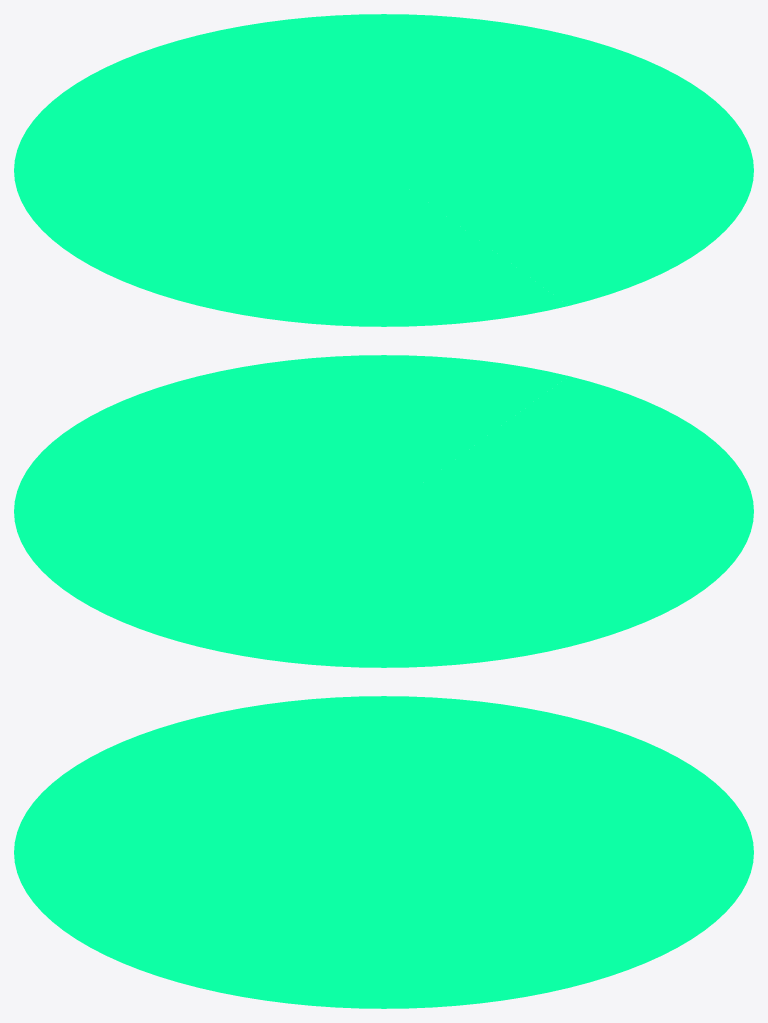
The model's file is hypersphere_projectable_ar_universal.glb.
The picture shows the model from 3 angles, top to bottom: view 1: azimuth 30°, elevation 25°; view 2: azimuth 150°, elevation 25°; view 3: azimuth 270°, elevation 25°; orthographic projection.
Visible parts, largest first — view 1: hypersphere_projectable_ar; view 2: hypersphere_projectable_ar; view 3: hypersphere_projectable_ar.
Boxes of the visible parts, x1,y1,x2,y2 form: hypersphere_projectable_ar: (14,14,753,326); hypersphere_projectable_ar: (14,355,753,667); hypersphere_projectable_ar: (14,696,753,1008).
Size of the model in its own units: 1 by 0 by 1.
